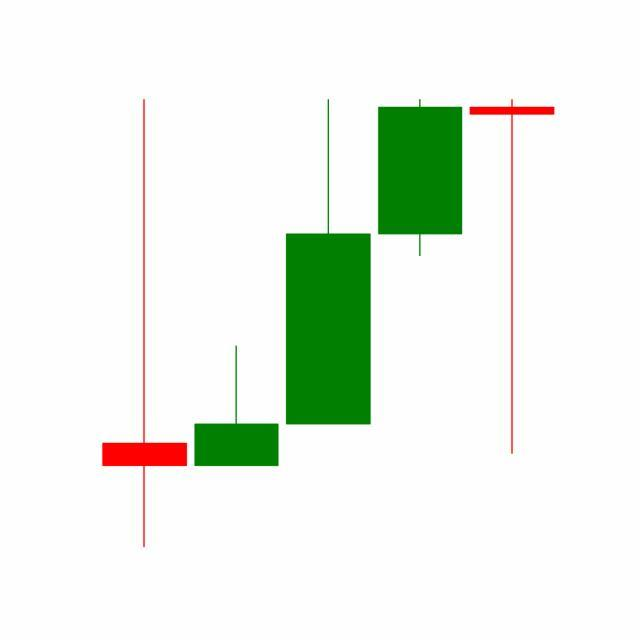Dragonfly Doji: (466, 96, 559, 459)
